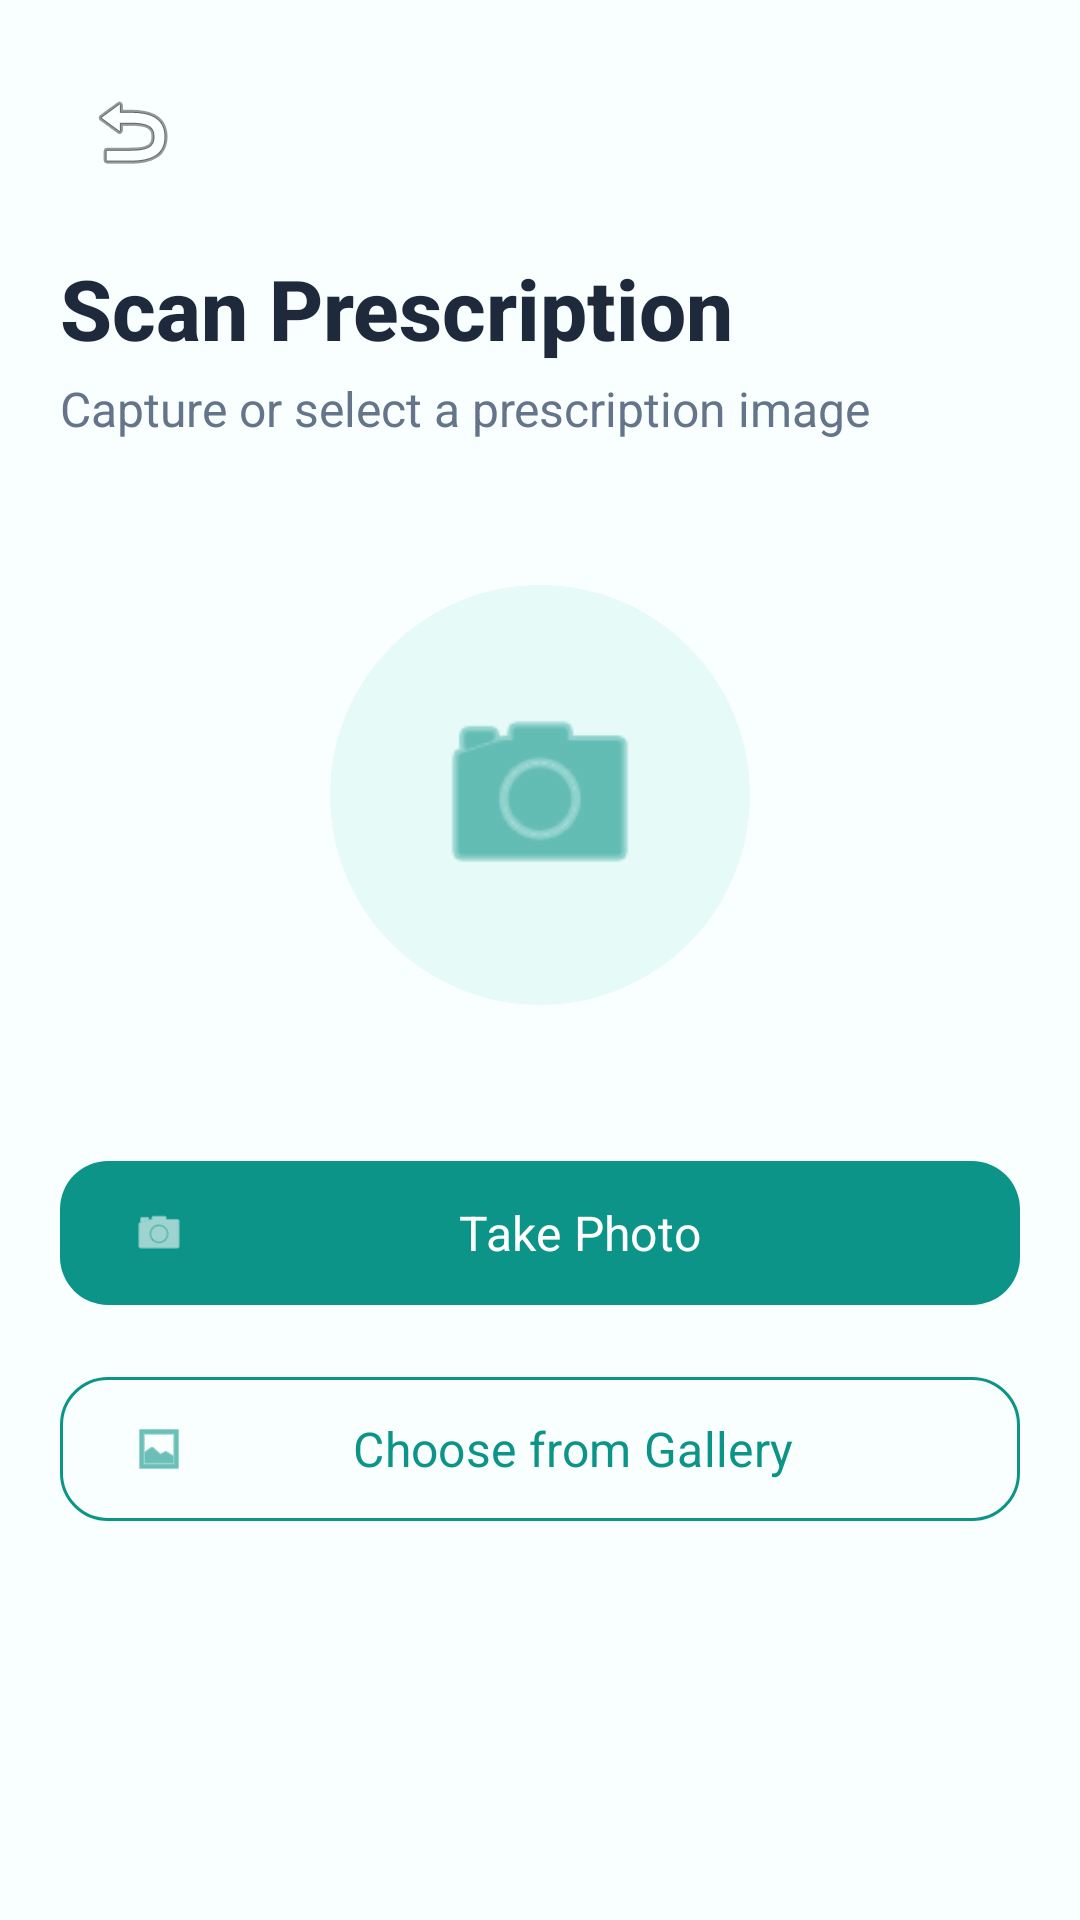

Icons on this 1080*1920 Android screen, each with the point to tap as (x,y):
Back: (133,132)
camera: (540,791)
